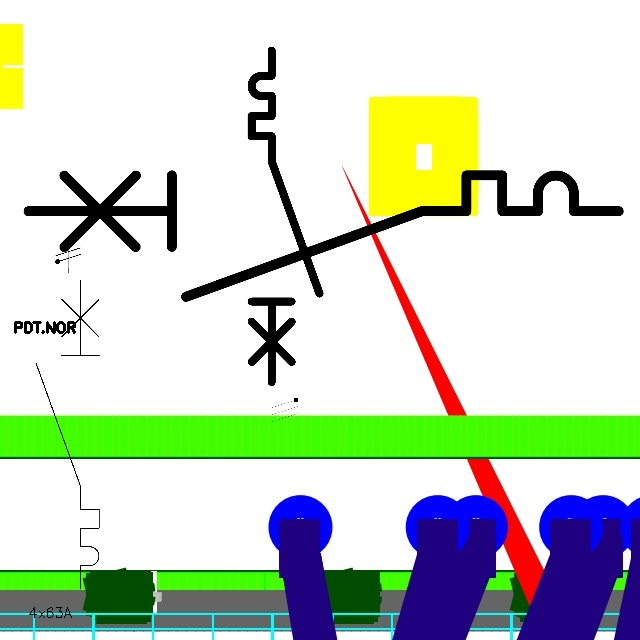interruptor_termomagnetico: (13, 160, 634, 312), (243, 42, 328, 390), (28, 272, 107, 597)
